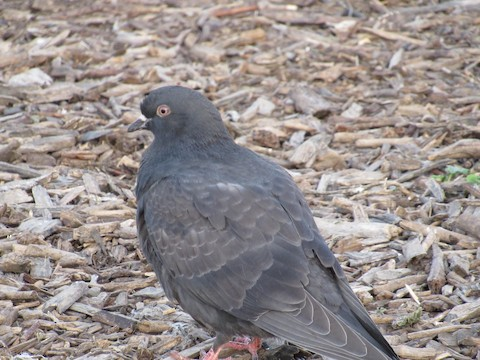pigeon: (121, 82, 408, 358)
